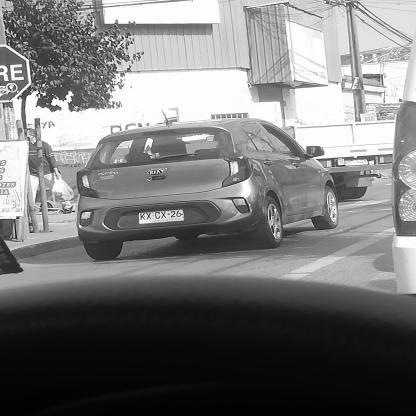Patente: (135, 207, 189, 225)
